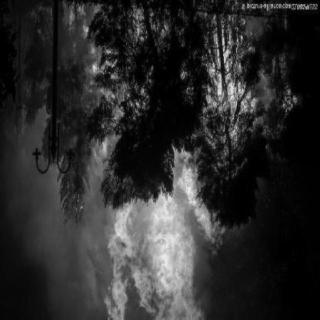Fire: (18, 4, 301, 312)
